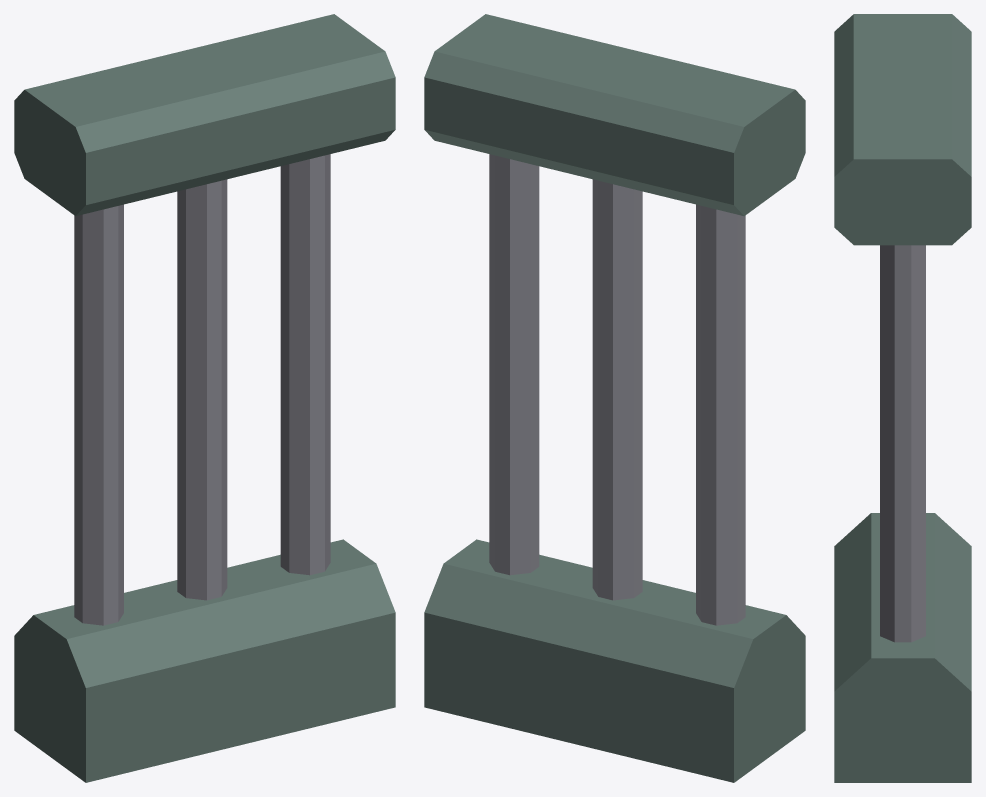
The model's file is bars2m.fbx.
3 renders of one model, left to right at view 1: azimuth 30°, elevation 25°; view 2: azimuth 150°, elevation 25°; view 3: azimuth 270°, elevation 25°, orthographic. The views are drawn at different scales.
Parts seen in each view (by area): view 1: bars2m; view 2: bars2m; view 3: bars2m.
Boxes of the visible parts, x1,y1,x2,y2 form: bars2m: [14, 14, 395, 782]; bars2m: [424, 14, 805, 782]; bars2m: [834, 14, 971, 782].
Size of the model in its own units: 1 by 2 by 0.4.
